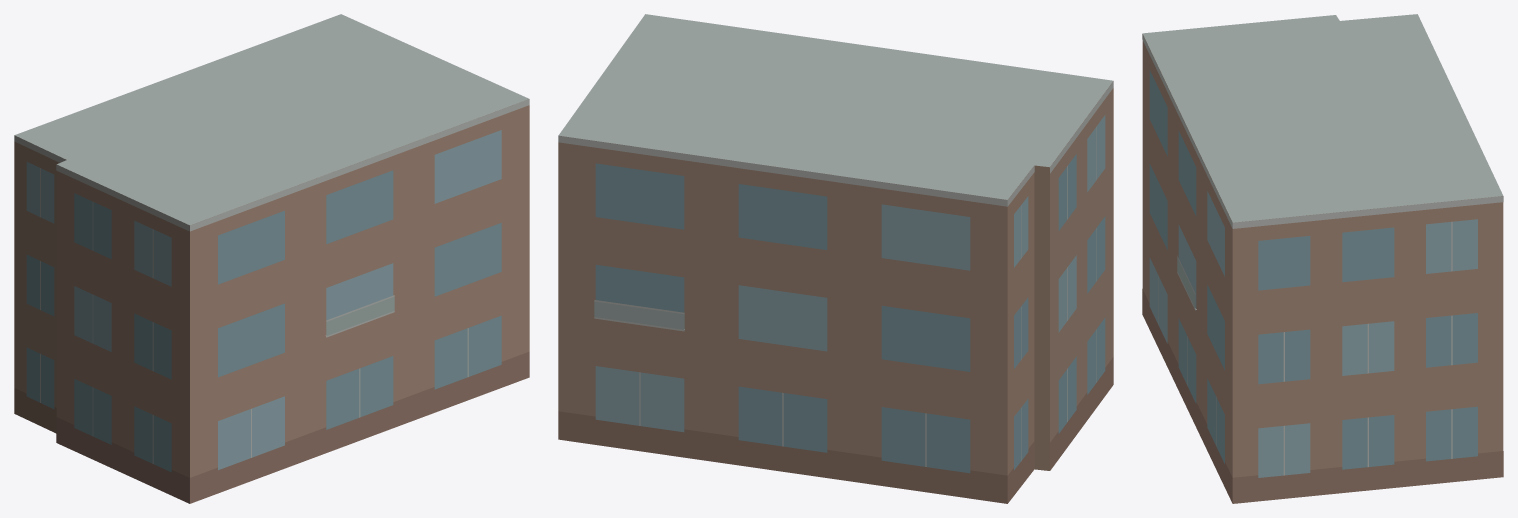
File: survey-upis-32458465.glb
3 views of the same model, side by side, from view 1: azimuth 30°, elevation 25°; view 2: azimuth 150°, elevation 25°; view 3: azimuth 270°, elevation 25° (orthographic). The views are drawn at different scales.
Visible parts, largest first — view 1: survey-upis-32458465.tmp; view 2: survey-upis-32458465.tmp; view 3: survey-upis-32458465.tmp.
Part boxes in pixels (left/top/right/bottom): survey-upis-32458465.tmp: left=14, top=14, right=529, bottom=503; survey-upis-32458465.tmp: left=558, top=14, right=1113, bottom=503; survey-upis-32458465.tmp: left=1142, top=14, right=1503, bottom=503.
Size of the model in its own units: 17.52 by 11 by 12.81.
